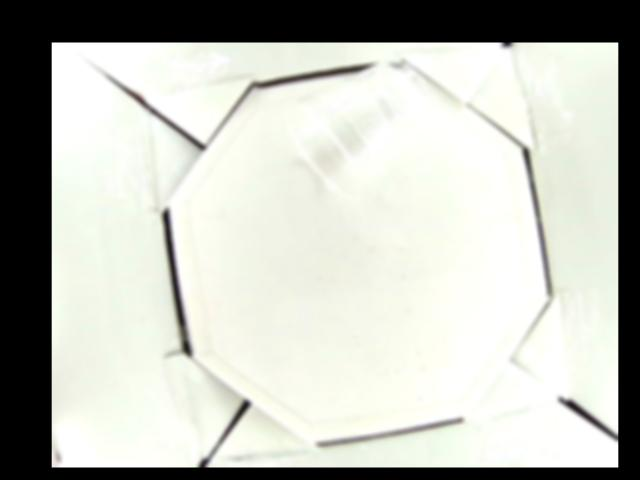Cup: (283, 60, 426, 193)
